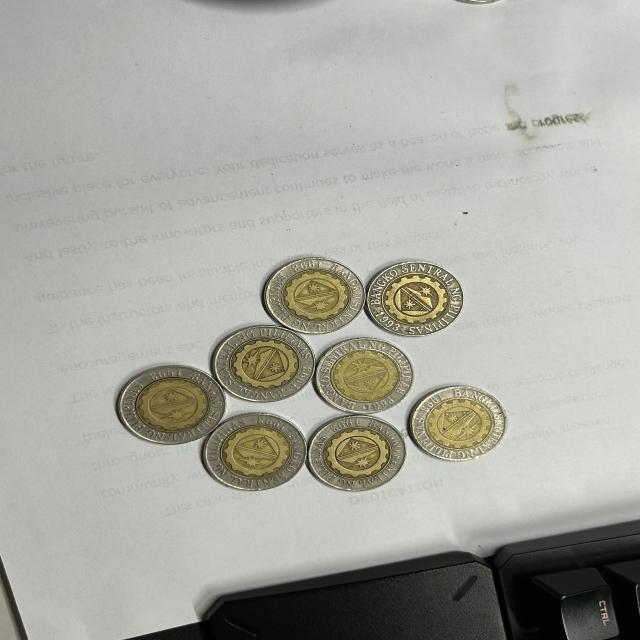10_Old_Back: (262, 258, 368, 328), (208, 415, 302, 485), (316, 422, 409, 486), (126, 372, 224, 430), (420, 392, 504, 457), (377, 267, 459, 330), (222, 329, 310, 387), (328, 344, 405, 408)
